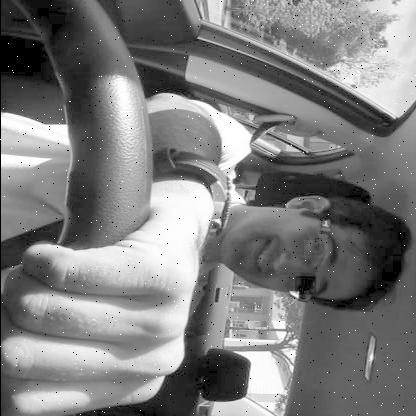seatbelt: (0, 100, 414, 351)
